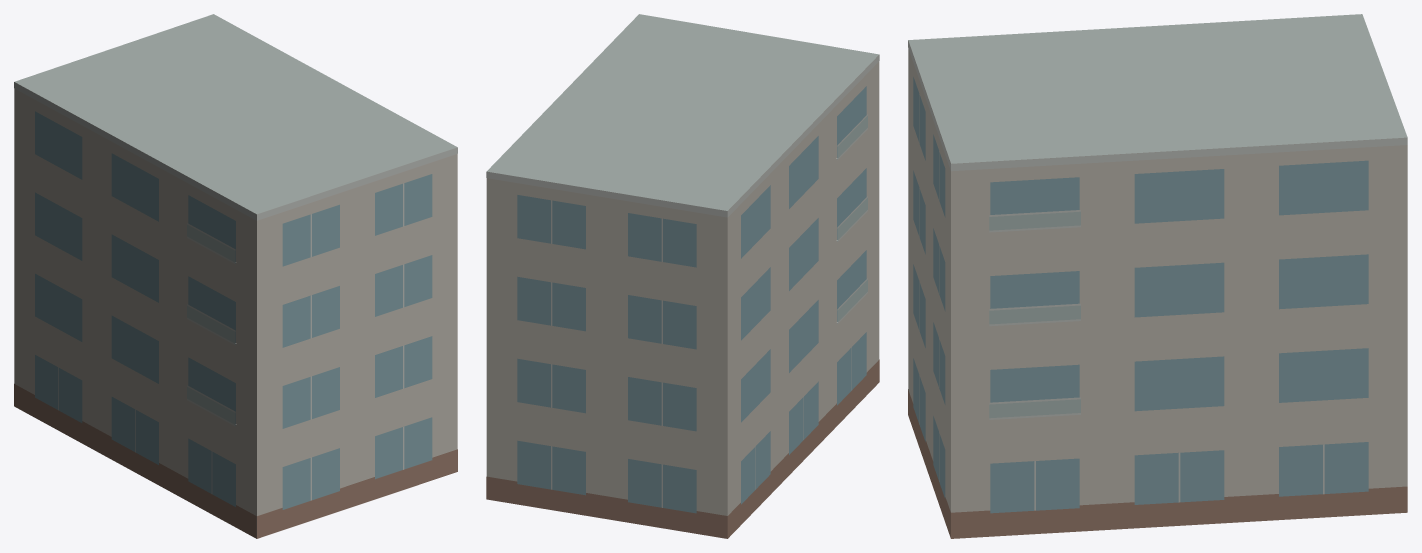
The model's file is survey-upis-32721252.glb.
The picture shows the model from 3 angles, left to right: view 1: azimuth 30°, elevation 25°; view 2: azimuth 150°, elevation 25°; view 3: azimuth 270°, elevation 25°; orthographic projection. The views are drawn at different scales.
Visible parts, largest first — view 1: survey-upis-32721252.tmp; view 2: survey-upis-32721252.tmp; view 3: survey-upis-32721252.tmp.
Part boxes in pixels (x1,y1,x2,y2): survey-upis-32721252.tmp: (14, 14, 457, 538); survey-upis-32721252.tmp: (486, 14, 879, 538); survey-upis-32721252.tmp: (908, 14, 1407, 538).
Size of the model in its own units: 10.5 by 12.25 by 14.8.
